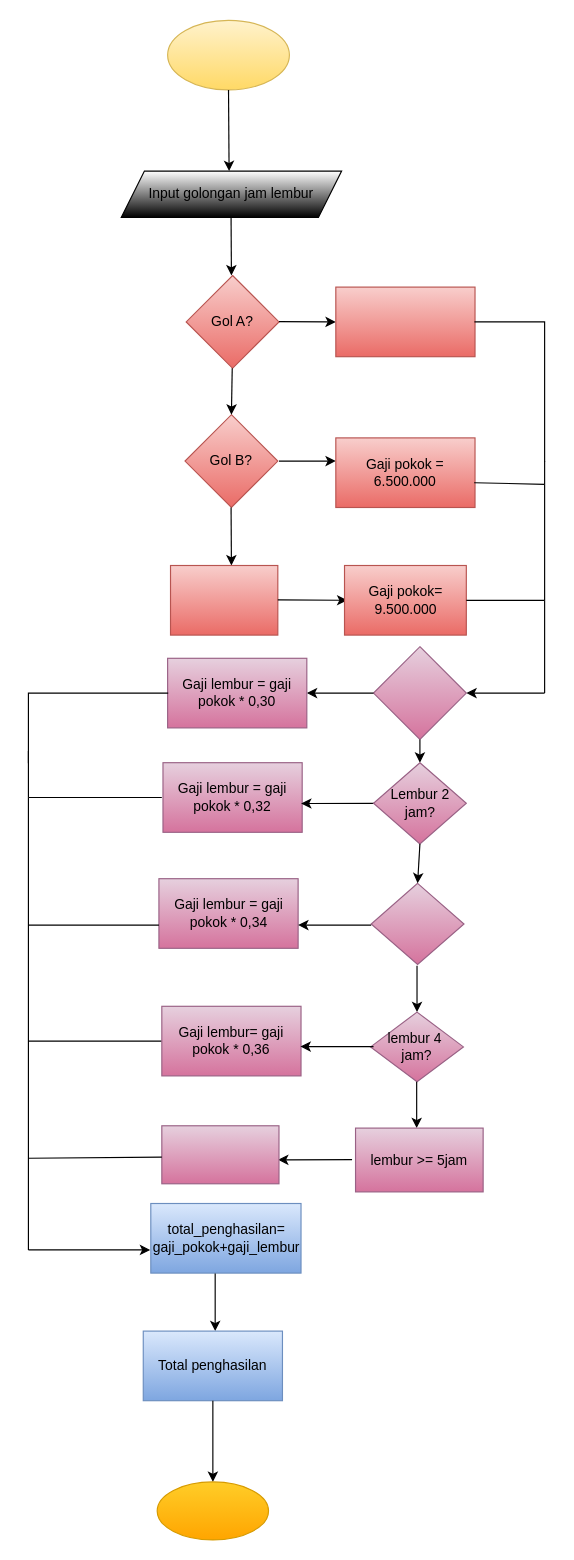
Some shapes in this 574 by 1560 pixel diagram are drawn without their labels. Each missing label, with the box of its shape:
END: (156, 1481, 269, 1540)
Gaji lembur= gaji pokok * 0,38: (161, 1125, 279, 1184)
Gaji pokok = 5.000.000: (335, 286, 475, 357)
Gol C: (169, 564, 278, 635)
Lembur 1 jam?: (372, 646, 466, 740)
Lembur 3 jam: (370, 882, 464, 965)
START: (166, 19, 289, 90)
